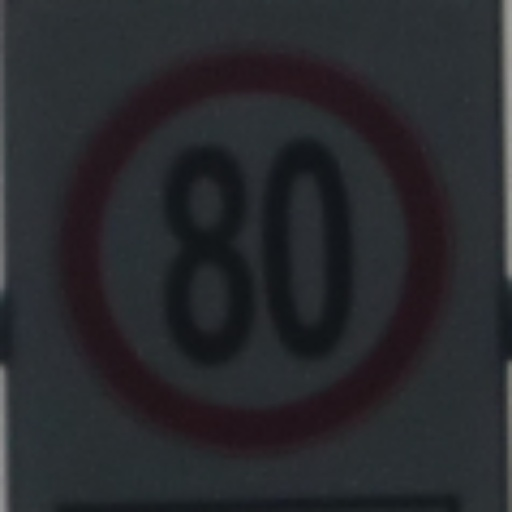Speed limit: (67, 62, 431, 421)
